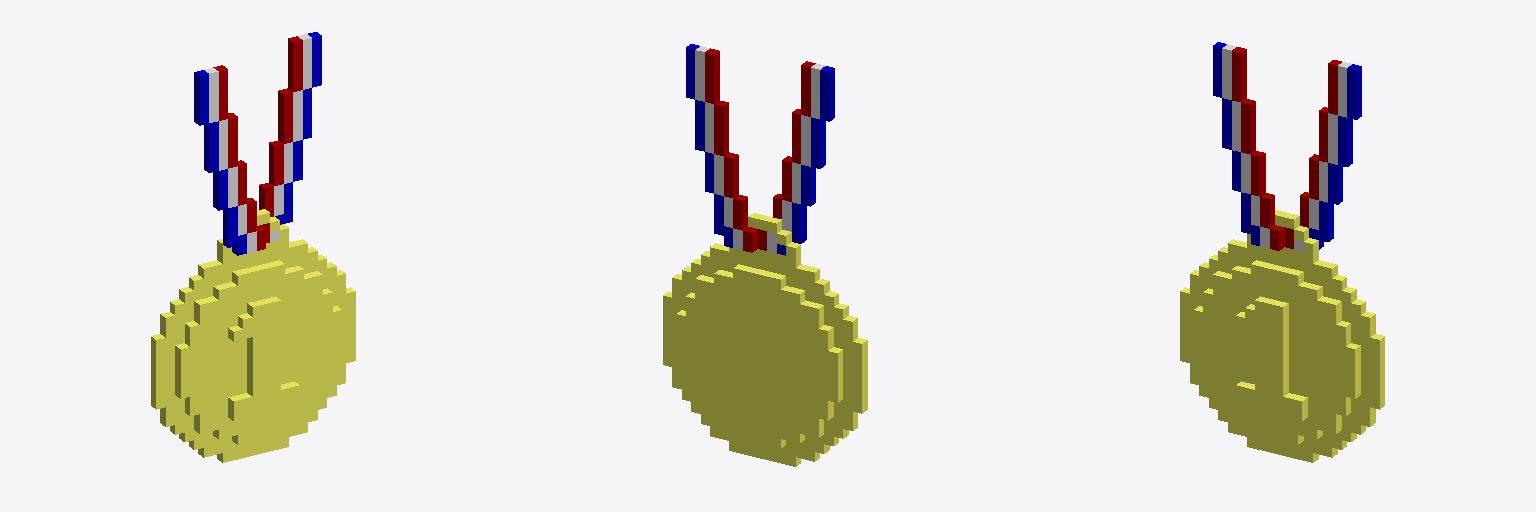
The picture shows the model from 3 angles: view 1: azimuth 30°, elevation 25°; view 2: azimuth 150°, elevation 25°; view 3: azimuth 330°, elevation 25°; orthographic projection.
Visible parts, largest first — view 1: object 1; view 2: object 1; view 3: object 1.
Boxes of the visible parts, x1=… form: object 1: x1=151, y1=32, x2=355, y2=462; object 1: x1=663, y1=44, x2=867, y2=466; object 1: x1=1180, y1=42, x2=1384, y2=462.
Size of the model in its own units: 2.1 by 4 by 0.4.
Materials: 1 (1 with a texture image).